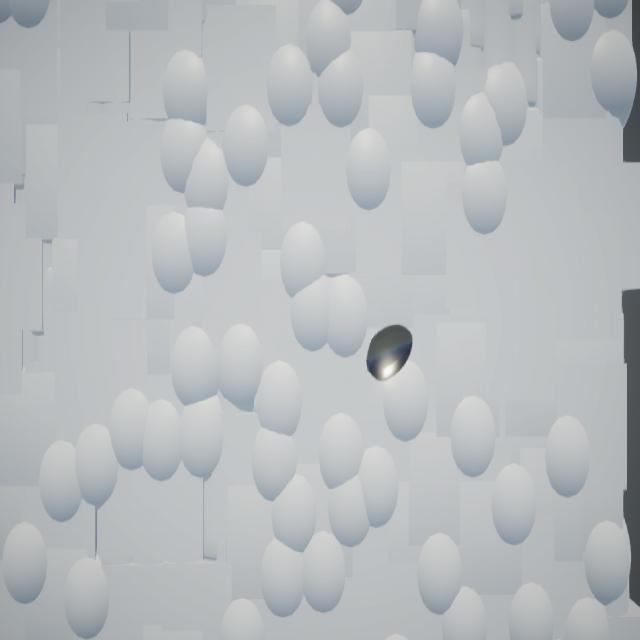top_spoon: (367, 326, 414, 383)
